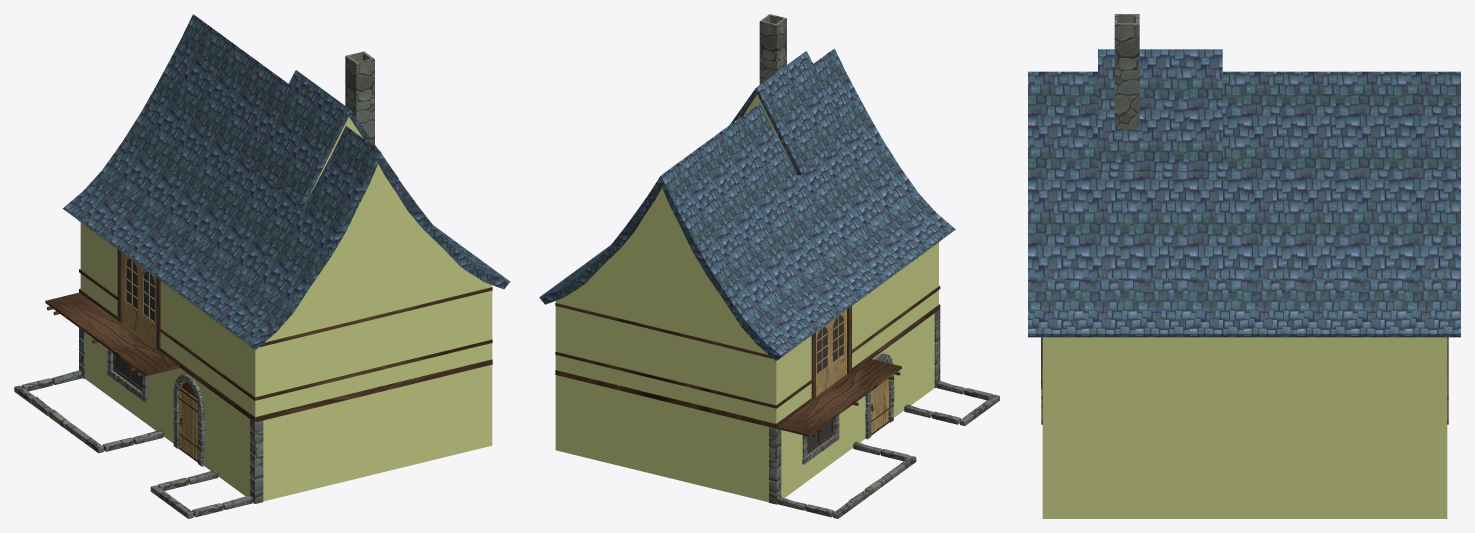
File: House 7.fbx
3 renders of one model, left to right at view 1: azimuth 30°, elevation 25°; view 2: azimuth 150°, elevation 25°; view 3: azimuth 270°, elevation 25°, orthographic. The views are drawn at different scales.
Parts seen in each view (by area): view 1: House 1.039, House 1.037, Cube.021, House 1.024, House 1.019, Cube.027, Cube.032; view 2: House 1.039, House 1.037, Cube.021, House 1.024, House 1.019, Cube.027, Cube.032; view 3: House 1.037, House 1.039, Cube.027.
Boxes of the visible parts, <box> form: House 1.039: <box>80,117,492,501</box>; House 1.037: <box>62,14,510,349</box>; Cube.021: <box>45,220,492,422</box>; House 1.024: <box>14,328,263,518</box>; House 1.019: <box>122,253,156,346</box>; Cube.027: <box>345,51,374,143</box>; Cube.032: <box>178,381,198,462</box>; House 1.039: <box>555,94,938,502</box>; House 1.037: <box>539,48,955,360</box>; Cube.021: <box>555,241,940,436</box>; House 1.024: <box>769,309,999,518</box>; House 1.019: <box>816,310,846,396</box>; Cube.027: <box>759,14,786,84</box>; Cube.032: <box>870,360,889,435</box>; House 1.037: <box>1028,49,1460,337</box>; House 1.039: <box>1042,337,1447,518</box>; Cube.027: <box>1114,14,1139,128</box>.
Bounding box in the file's own units: 1585 × 1848 × 1625.
